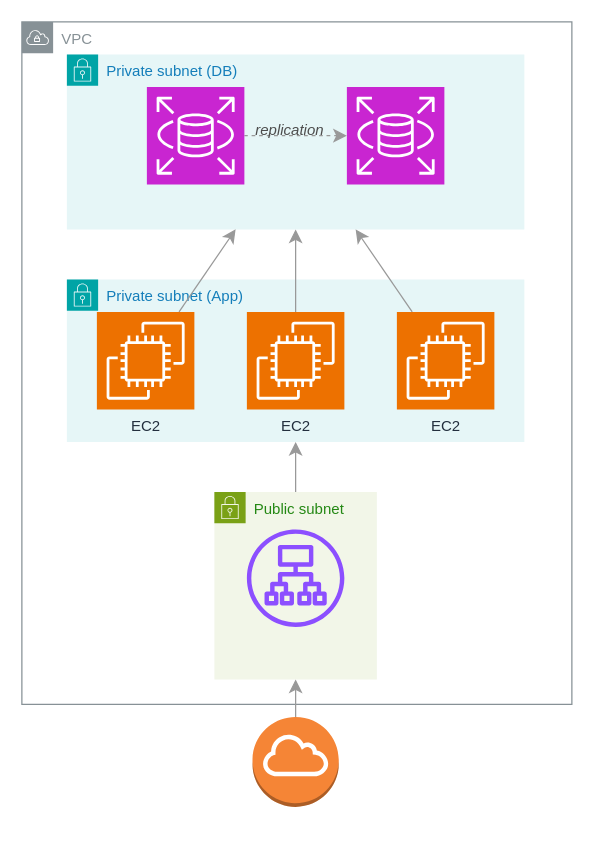
Image size: 594x855. Some labels were removed from this diagram. Each missing label, with the centre of its shape:
"ALB (:443 / :80)" goes at pixel 295 577.
"Internet" goes at pixel 295 761.
"RDS (Multi-AZ Replica)" goes at pixel 395 135.
"RDS (Primary)" goes at pixel 195 135.
